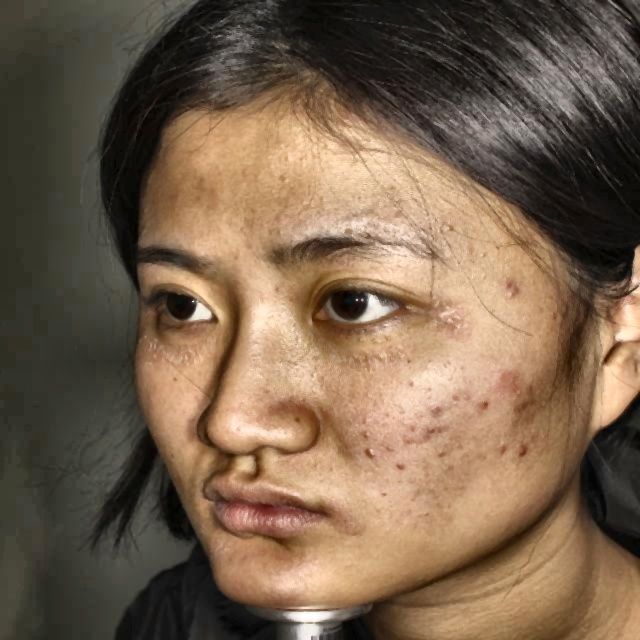pustule: (490, 436, 541, 471), (502, 366, 544, 407), (407, 413, 459, 441), (356, 429, 389, 468), (492, 276, 528, 306), (464, 387, 497, 413)
